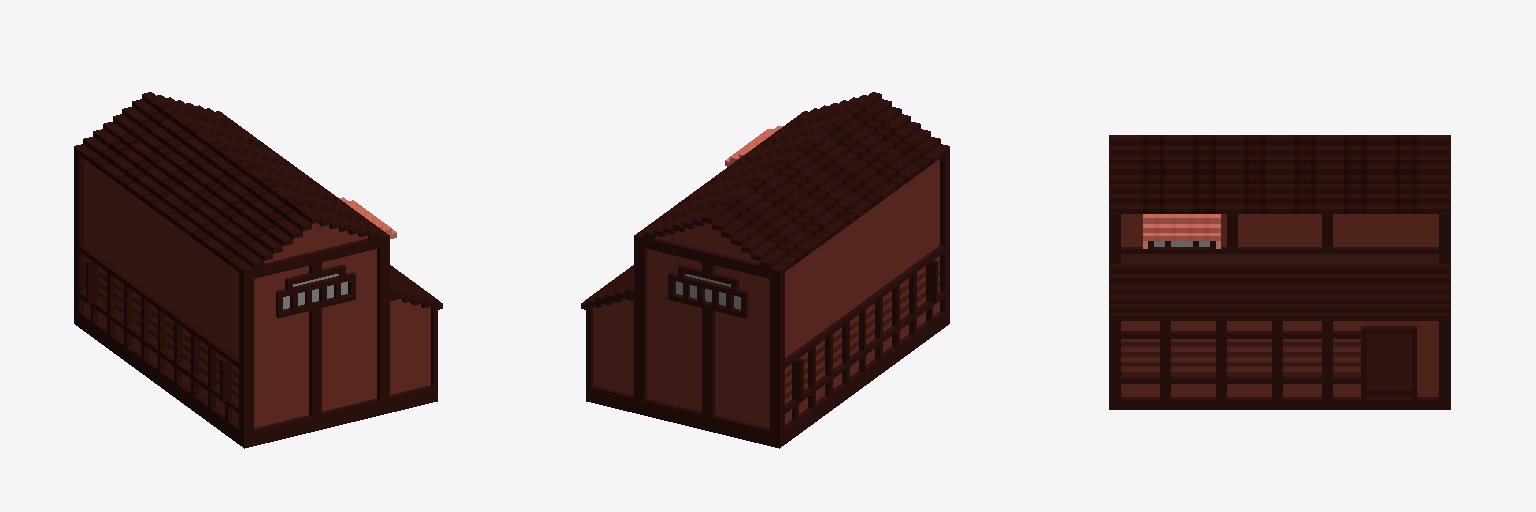
3 renders of one model, left to right at view 1: azimuth 30°, elevation 25°; view 2: azimuth 150°, elevation 25°; view 3: azimuth 270°, elevation 25°, orthographic.
Parts seen in each view (by area): view 1: object 1; view 2: object 1; view 3: object 1.
Boxes of the visible parts, x1=… form: object 1: x1=74, y1=92, x2=442, y2=448; object 1: x1=581, y1=92, x2=949, y2=448; object 1: x1=1109, y1=135, x2=1450, y2=409.
Size of the model in its own units: 4.2 by 4.2 by 6.1.
1 materials, 1 textured.